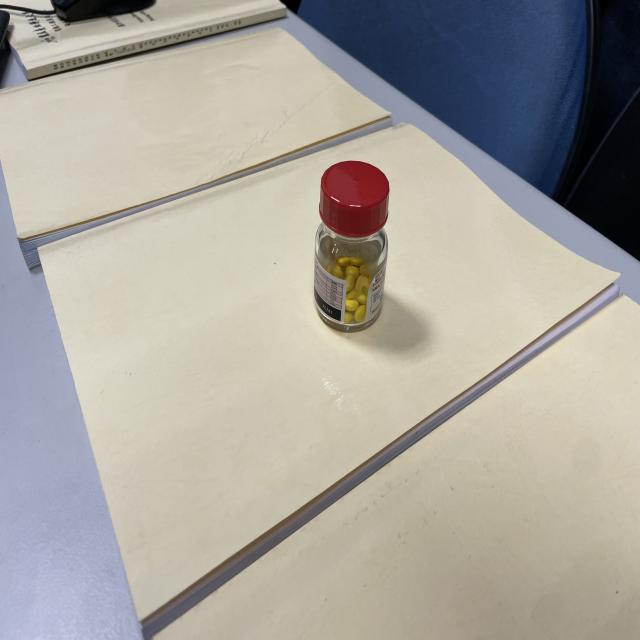Medicine-Jar: (311, 161, 396, 348)
